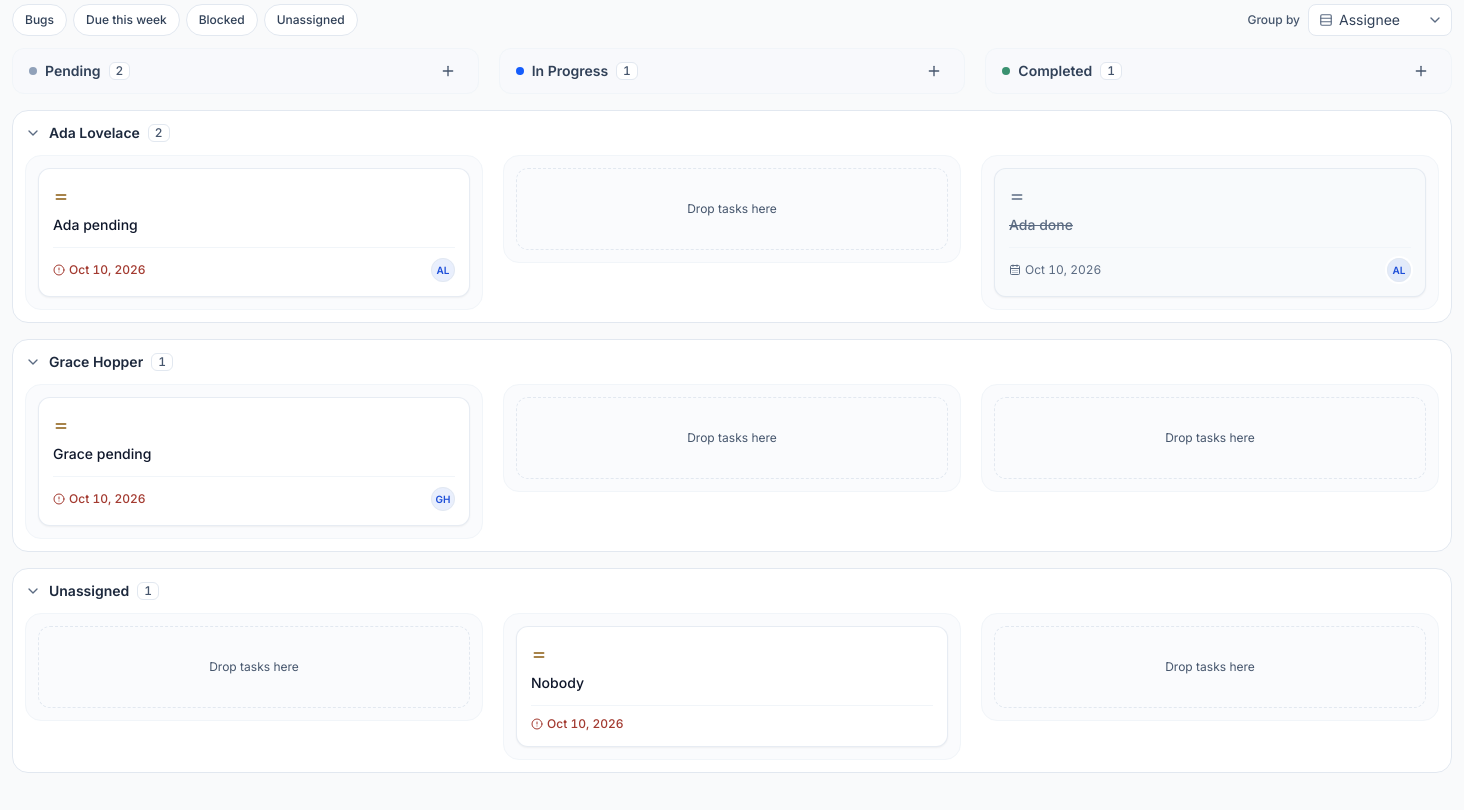
Test case: BoardView swimlanes › groups the board into collapsible lanes that each hold the three columns
expect the element named "Pending column in Ada Lovelace" shows "Ada pending": met, box [53,215,455,235]
expect the element named "Completed column in Ada Lovelace" shows "Ada done": met, box [1009,215,1411,235]
Click the button "Ada Lovelace 2" at (94, 132), box [13,111,1451,155]
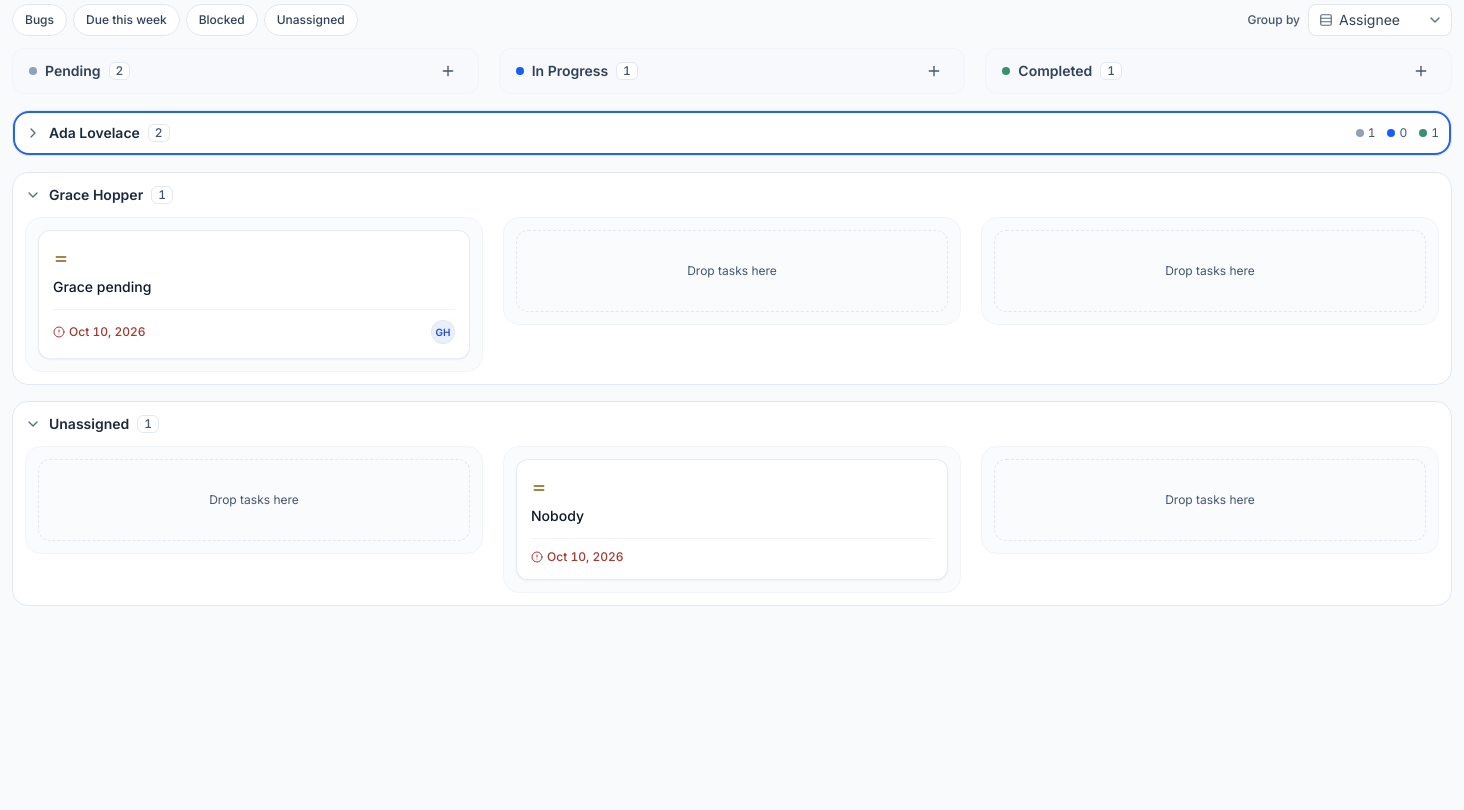
expect the button "Grace pending" is shown: met, box [53,277,455,297]
expect the button "Ada Lovelace 2 1 0 1" is collapsed: met
expect the button "Ada pending" is gone: met
Click the button "Ada Lovelace 2 1 0 1" at (94, 132), box [13,111,1451,155]
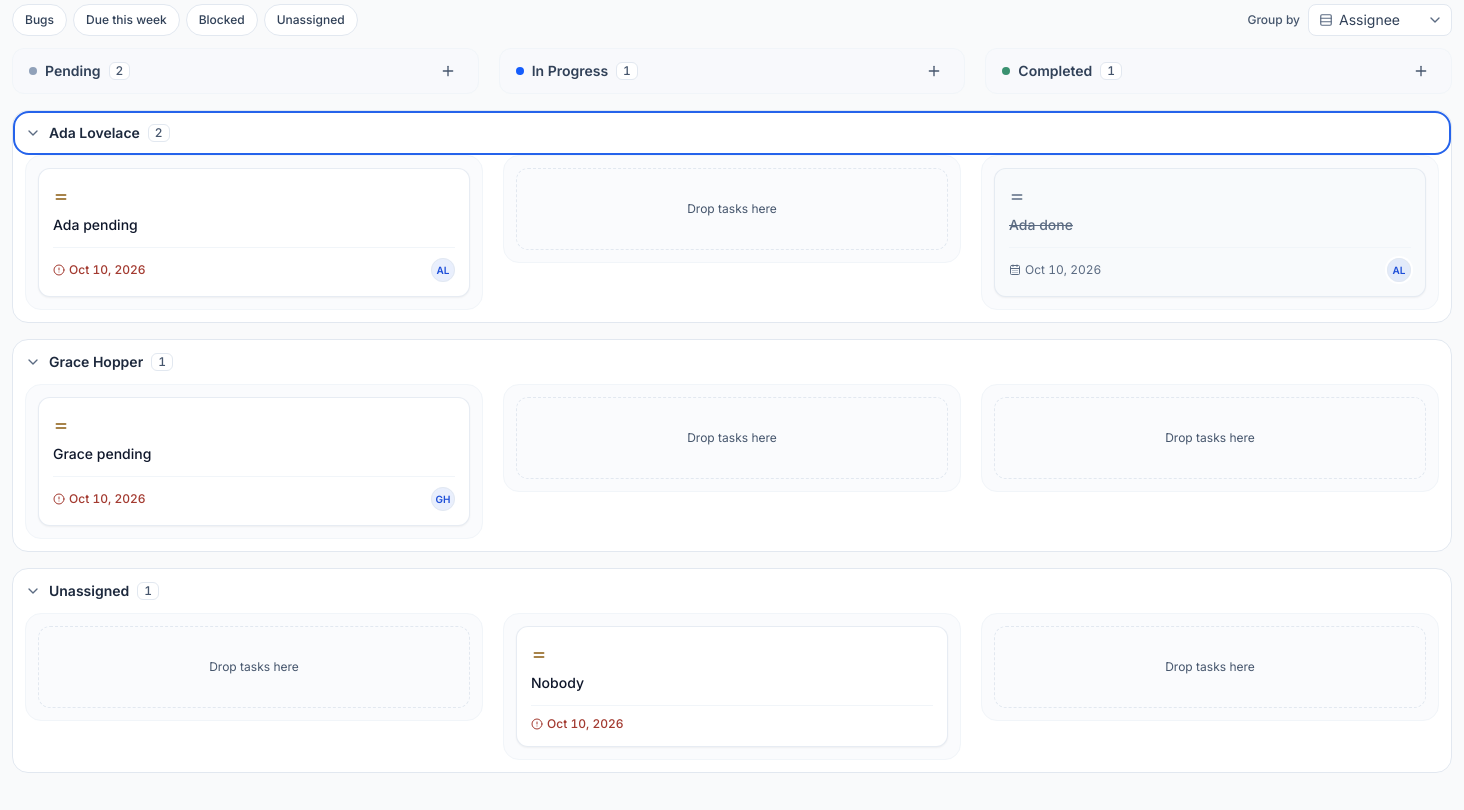
expect the button "Ada pending" is shown: met, box [53,215,455,235]
